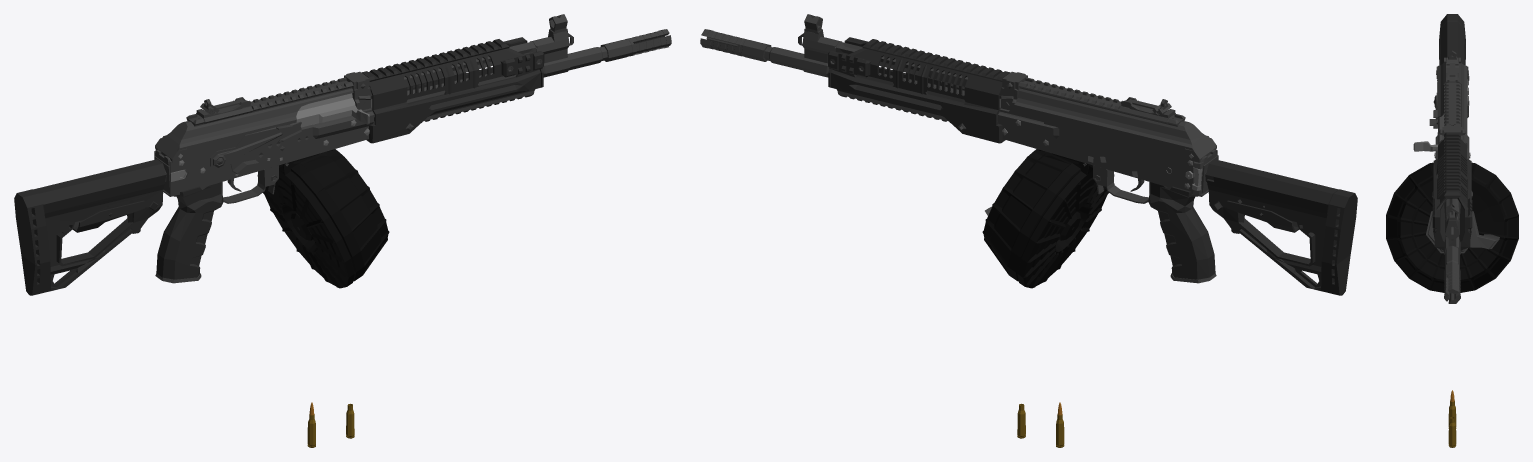
Rendered from low-poly-rpk-16-7e703e.glb.
3 renders of one model, left to right at view 1: azimuth 30°, elevation 25°; view 2: azimuth 150°, elevation 25°; view 3: azimuth 270°, elevation 25°, orthographic. The views are drawn at different scales.
Parts seen in each view (by area): view 1: PropMesh; view 2: PropMesh; view 3: PropMesh.
Part boxes in pixels (<box>): PropMesh: <box>14,14,671,447</box>; PropMesh: <box>700,14,1357,447</box>; PropMesh: <box>1386,14,1518,447</box>.
Size of the model in its own units: 0.9 by 0.4948 by 0.1791.
